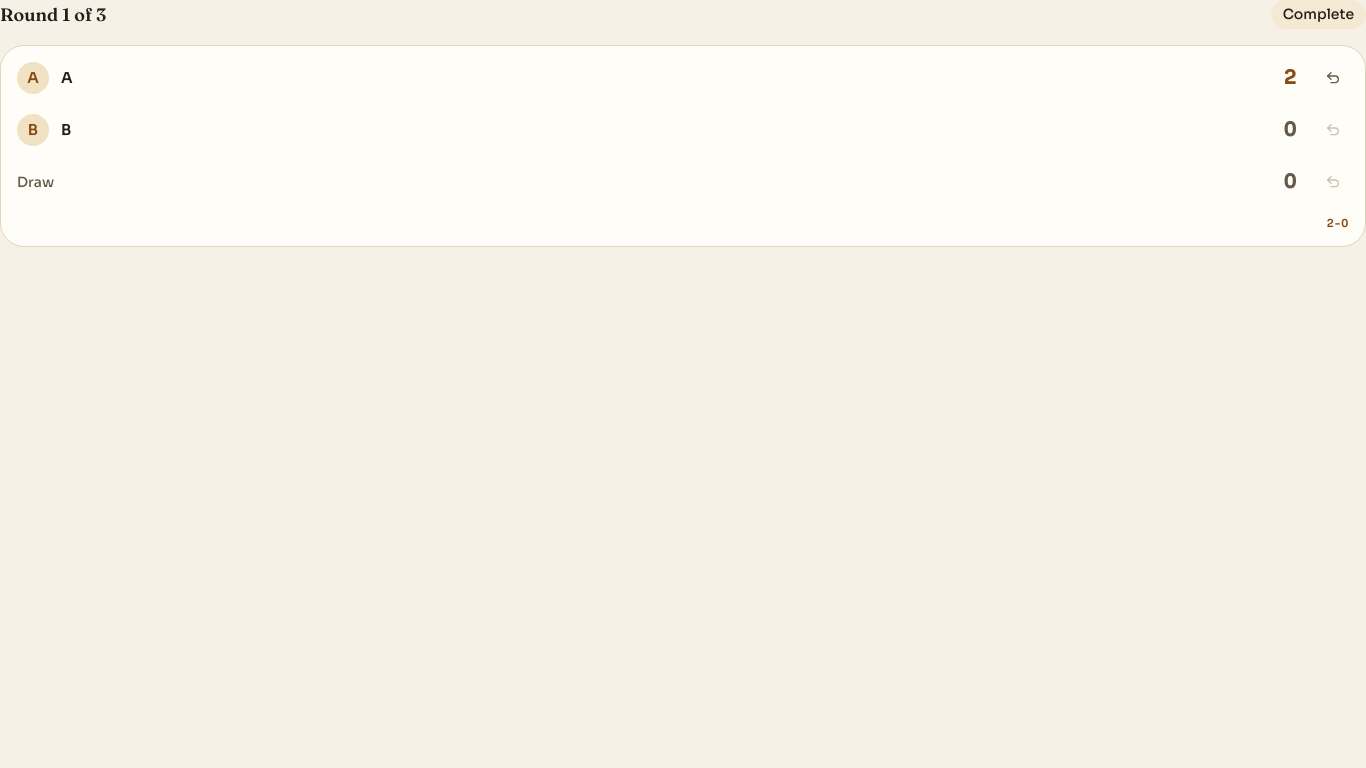
Test: the re-pair banner › re-pairs only after the confirmation is accepted
Click the button named "Remove a game win for A": click(1333, 78) [1309, 54, 1357, 102]
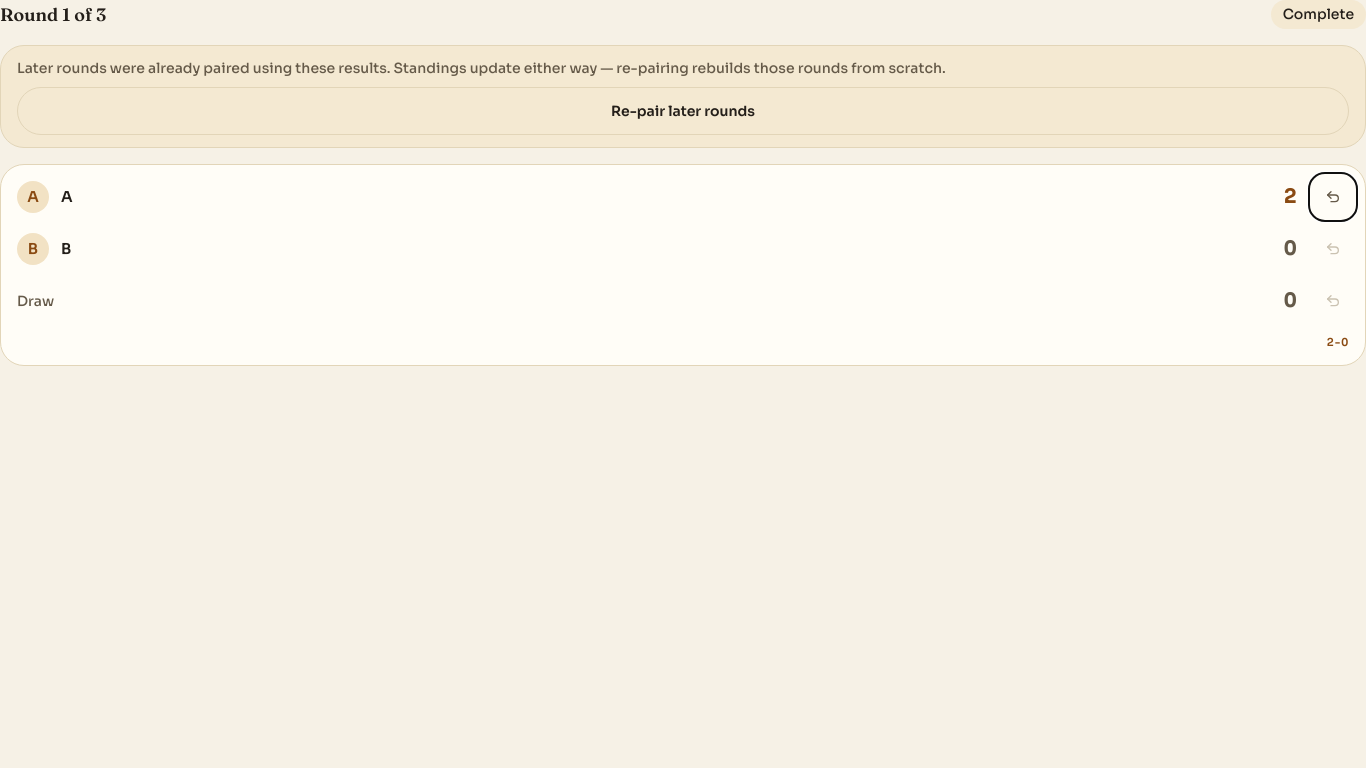
Click the button "Re-pair later rounds": click(683, 111) [17, 87, 1349, 135]
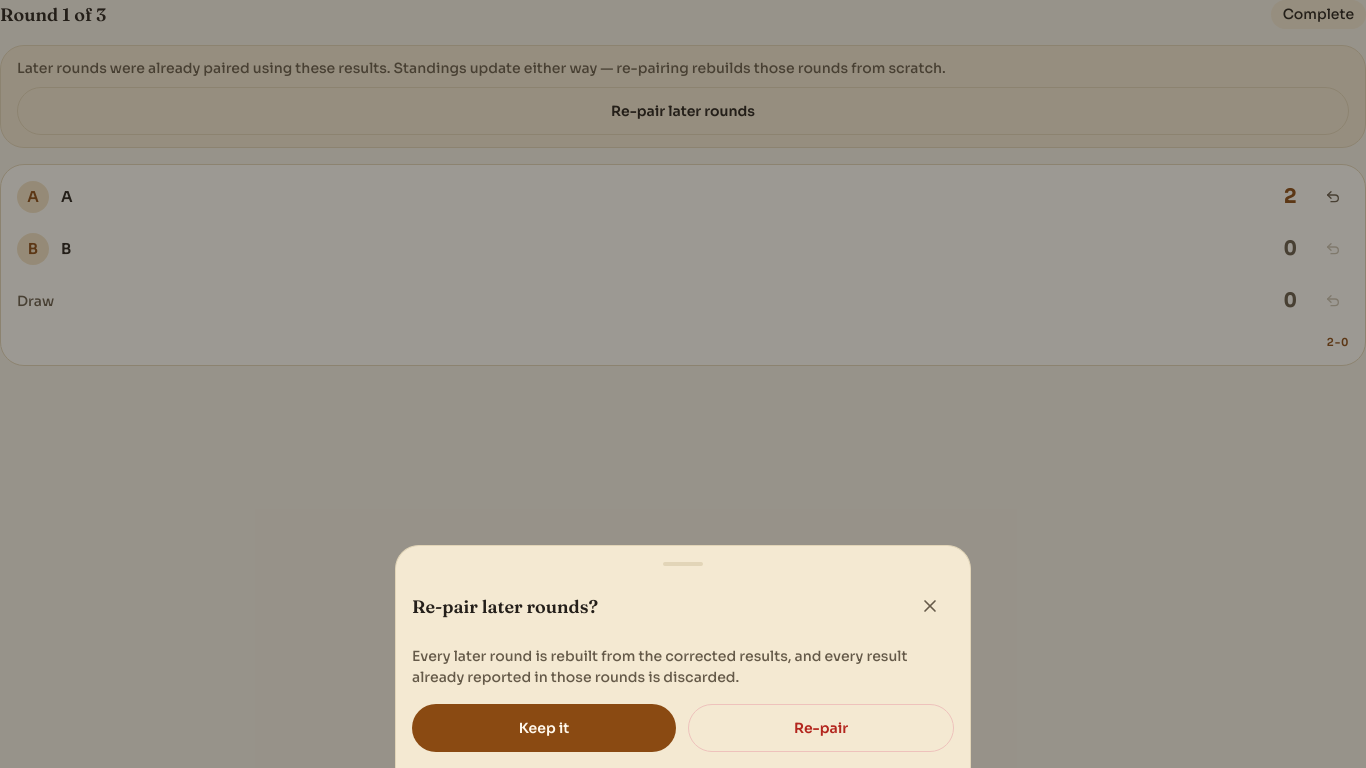
Click the button "Re-pair": click(821, 728) [688, 704, 954, 752]
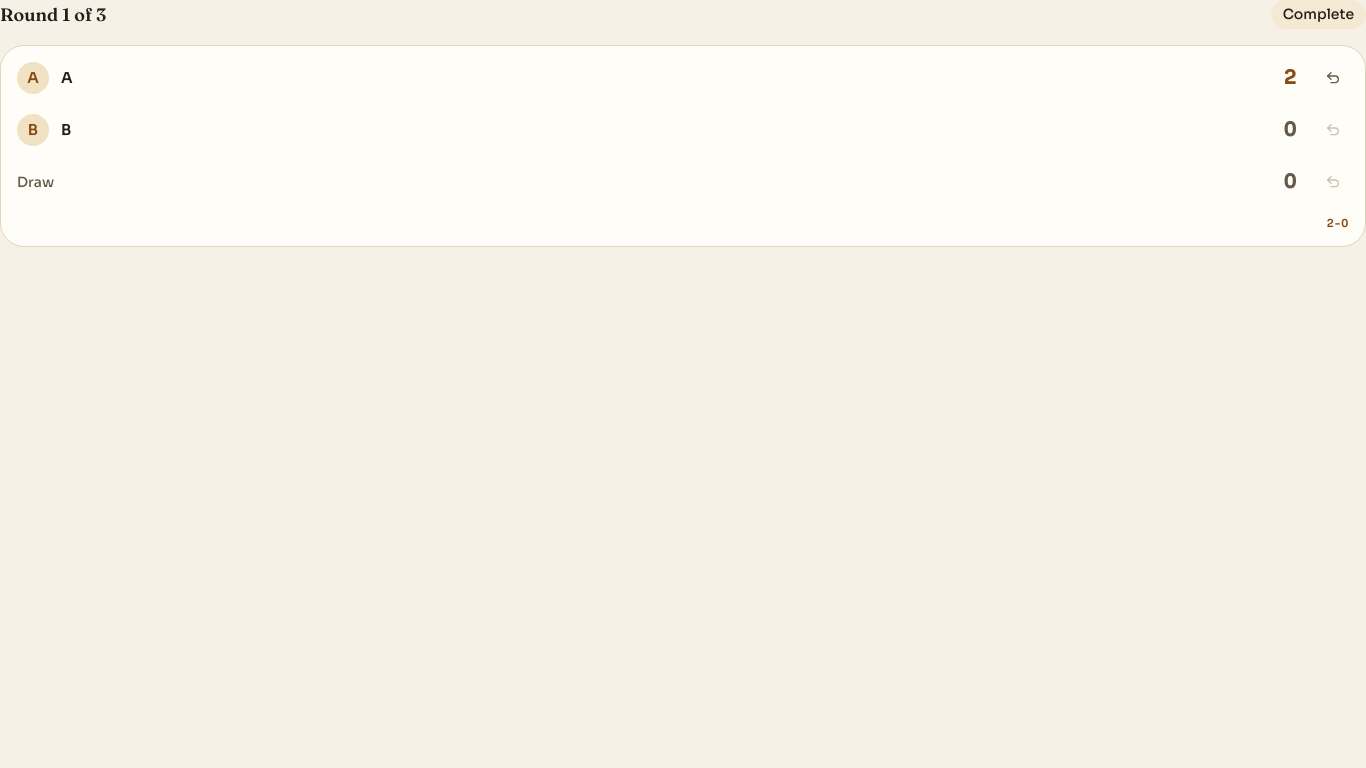
Now the button "Re-pair later rounds" is gone
